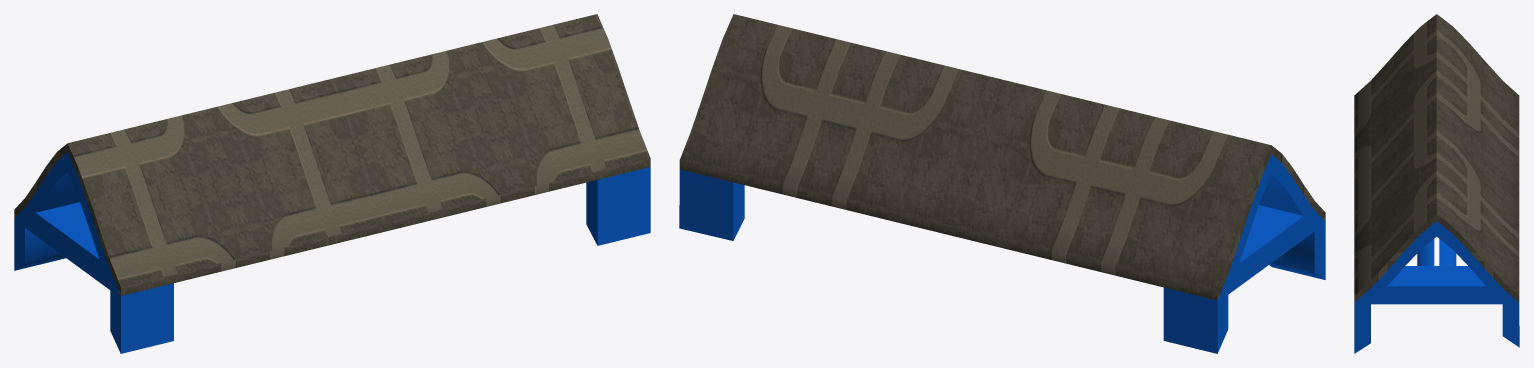
The model's file is Wooden Vault Ceiling.fbx.
3 renders of one model, left to right at view 1: azimuth 30°, elevation 25°; view 2: azimuth 150°, elevation 25°; view 3: azimuth 270°, elevation 25°, orthographic. The views are drawn at different scales.
Parts seen in each view (by area): view 1: Plane_001; view 2: Plane_001; view 3: Plane_001.
Boxes of the visible parts, x1=… form: Plane_001: x1=14, y1=14, x2=650, y2=353; Plane_001: x1=679, y1=14, x2=1325, y2=353; Plane_001: x1=1354, y1=14, x2=1519, y2=353.
Size of the model in its own units: 1257 by 408 by 438.
